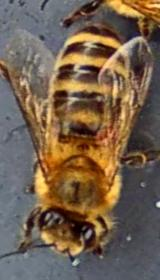varroa_mite: (85, 114, 124, 155)
